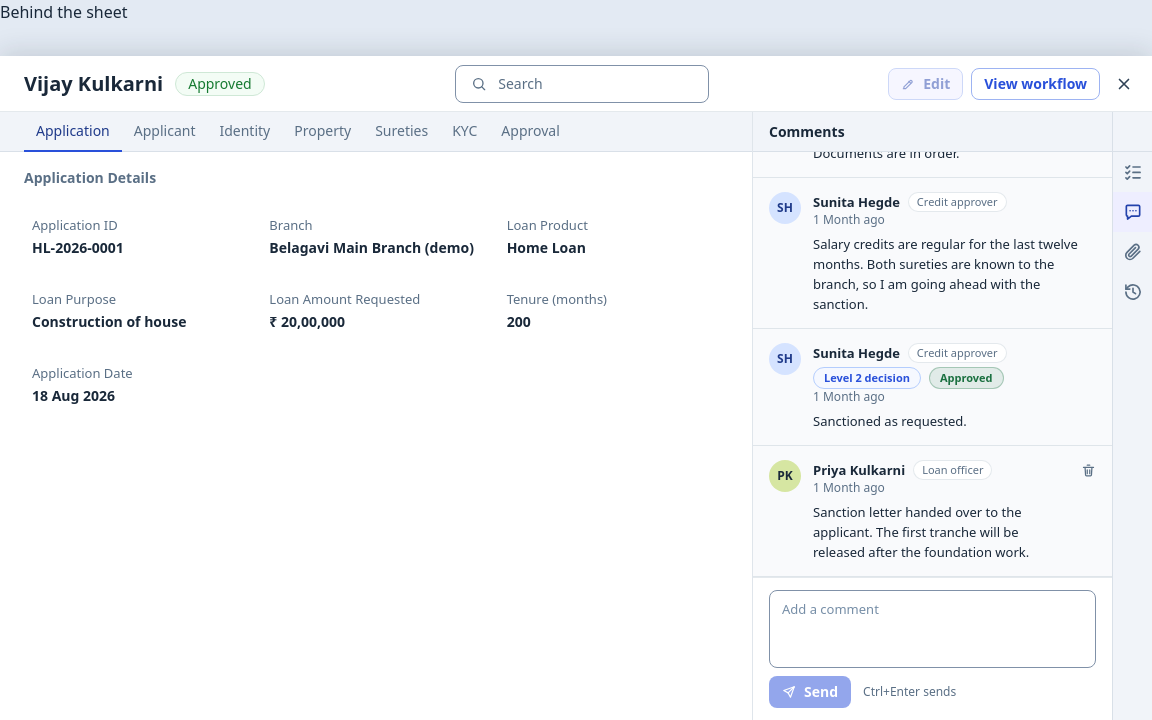
Test: the tabs › Property shows the heading "Property and Security"
(page scrolled)
Step 1. Click the tab "Property" → {"x": 323, "y": 132}, box [282,112,363,152]
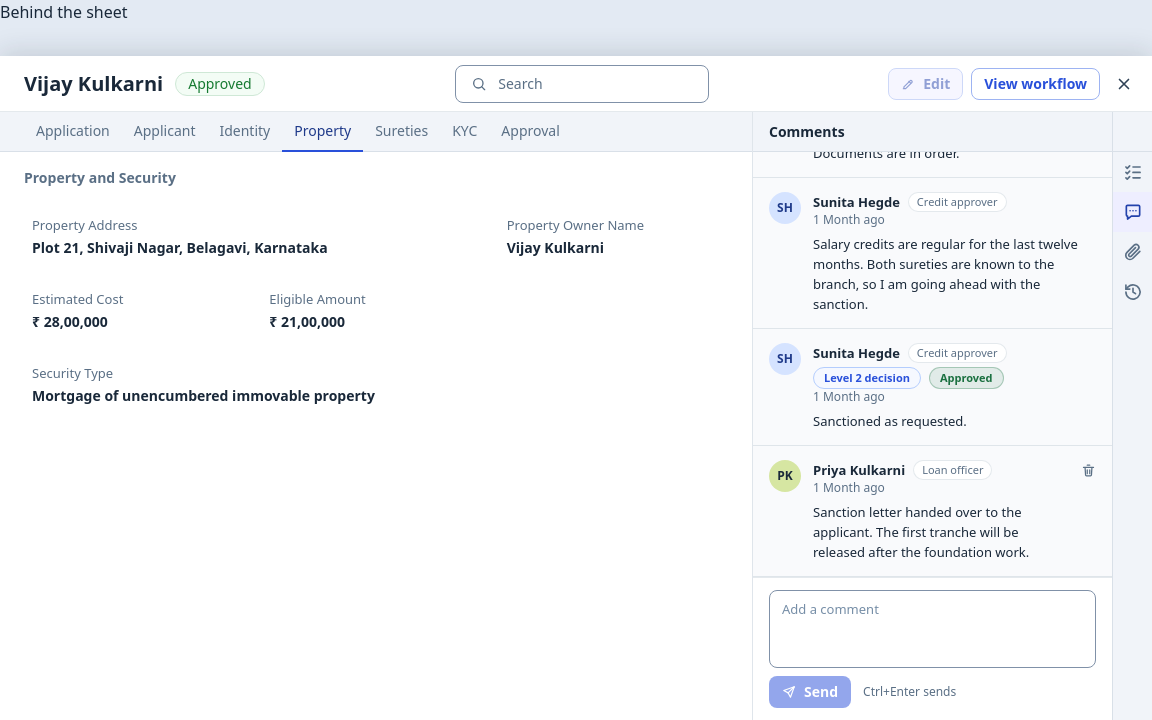
Expected: the heading "Property and Security" is shown, [24,168,176,187]
